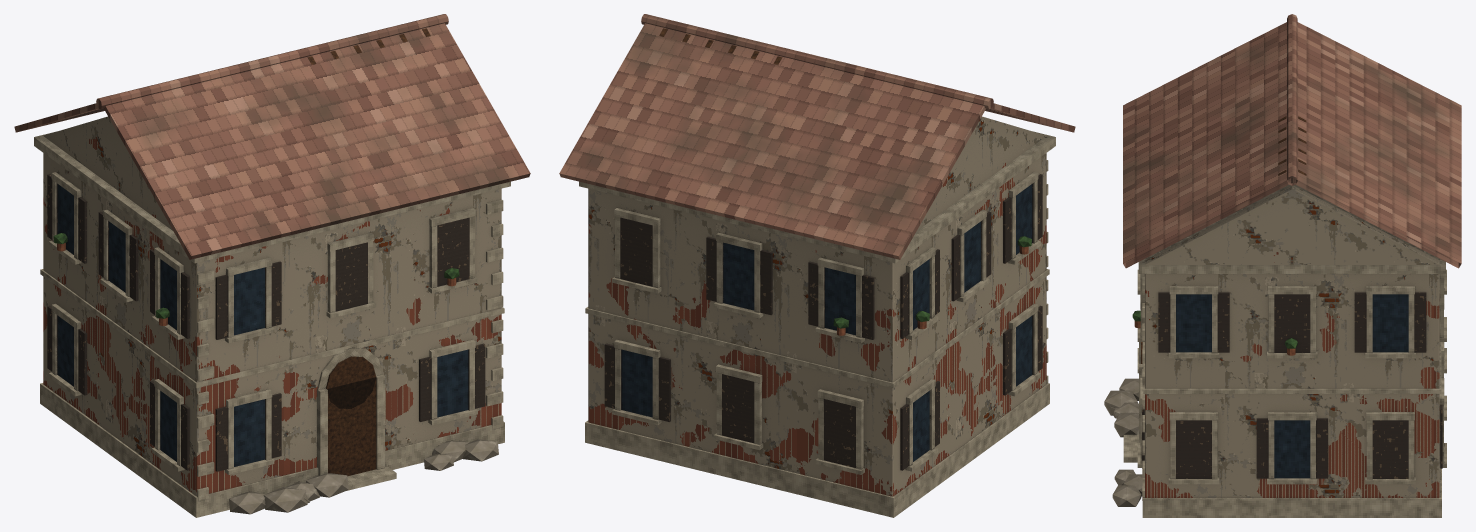
Rendered from siracusa_ruin.glb.
The picture shows the model from 3 angles, left to right: view 1: azimuth 30°, elevation 25°; view 2: azimuth 150°, elevation 25°; view 3: azimuth 270°, elevation 25°; orthographic projection. The views are drawn at different scales.
Visible parts, largest first — view 1: siracusa_ruin; view 2: siracusa_ruin; view 3: siracusa_ruin.
Boxes of the visible parts, x1,y1,x2,y2 form: siracusa_ruin: (14, 14, 530, 517); siracusa_ruin: (559, 14, 1075, 517); siracusa_ruin: (1104, 14, 1461, 517).
Size of the model in its own units: 9.1 by 9.28 by 8.48.
10 materials, 10 textured.
